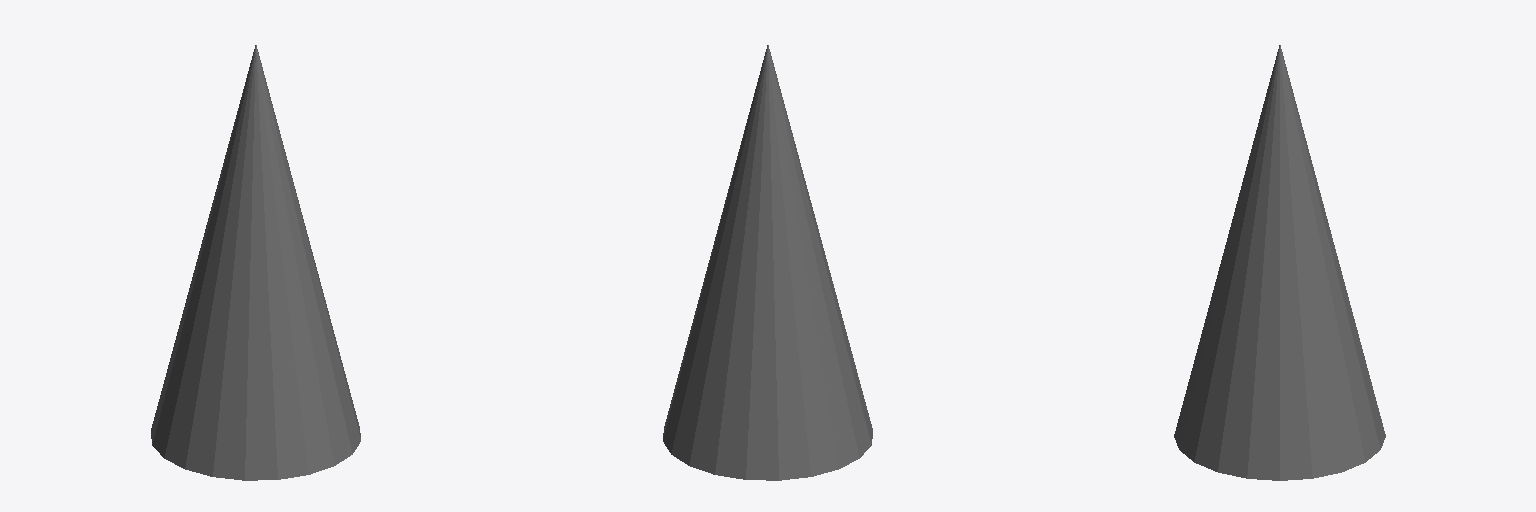
Rendered from conifer_large3.obj.
The picture shows the model from 3 angles: view 1: azimuth 30°, elevation 25°; view 2: azimuth 150°, elevation 25°; view 3: azimuth 270°, elevation 25°; orthographic projection.
Parts seen in each view (by area): view 1: conifer_2; view 2: conifer_2; view 3: conifer_2.
Part boxes in pixels (x1,y1,x2,y2): conifer_2: (151, 45, 360, 480); conifer_2: (663, 45, 872, 480); conifer_2: (1174, 45, 1385, 480).
Bounding box in the file's own units: 580 × 1285 × 580.